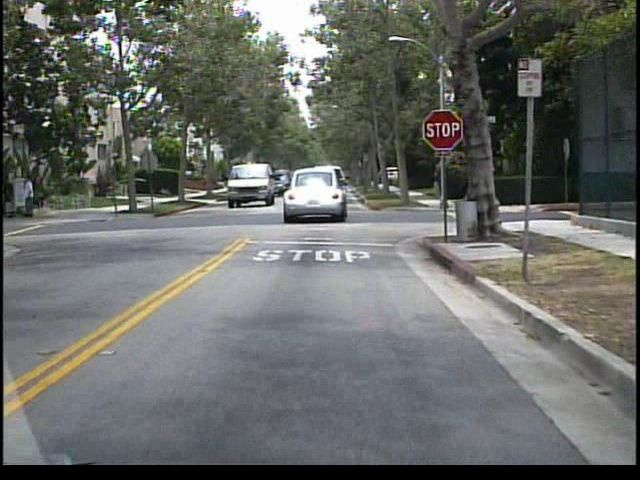person: (4, 172, 22, 219), (26, 170, 40, 222)
